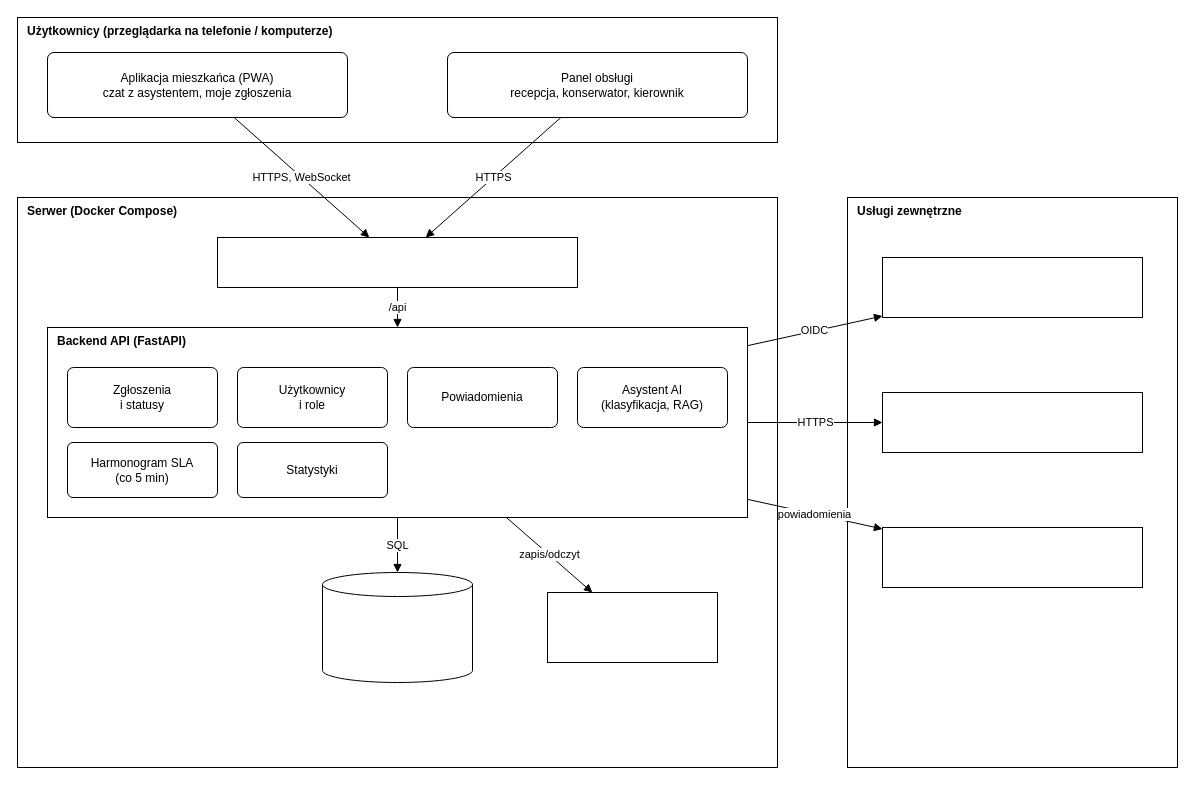
The diagram is 1195 pixels wide and 785 high, and some of its shapes have lost their labels. The shapes that lost their labels are listed below. From the top down, each one's centre as x and y in pixels, then its label:
At pixel 397 262: "Nginx: HTTPS, pliki frontendu (React)".
At pixel 1012 287: "SSO uczelni (OpenID Connect)".
At pixel 1012 422: "API modelu językowego".
At pixel 1012 557: "Serwer e-mail (SMTP) i usługa Web Push".
At pixel 397 627: "PostgreSQL + pgvector".
At pixel 632 627: "Zdjęcia zgłoszeń (wolumen dysku)".
